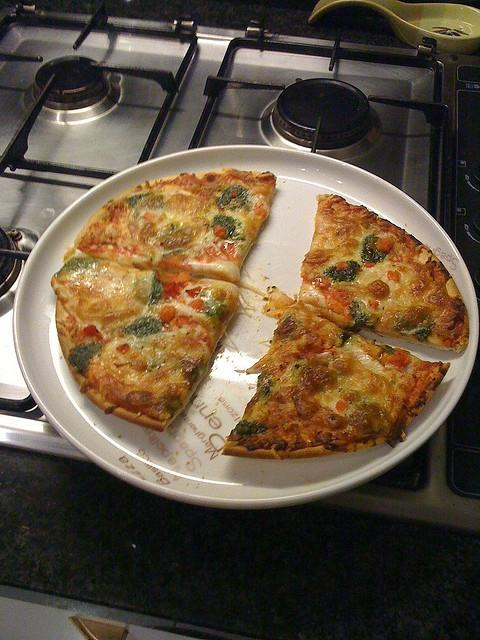tomato: (164, 281, 189, 302), (387, 350, 411, 368), (160, 306, 176, 326), (376, 238, 396, 253), (84, 324, 102, 338), (314, 276, 330, 290), (190, 298, 206, 312), (186, 286, 202, 298), (255, 203, 266, 220), (214, 224, 226, 239), (116, 342, 130, 354), (137, 212, 158, 220), (368, 299, 379, 312), (336, 401, 348, 412), (388, 272, 400, 282), (336, 262, 349, 270), (364, 260, 374, 268)
